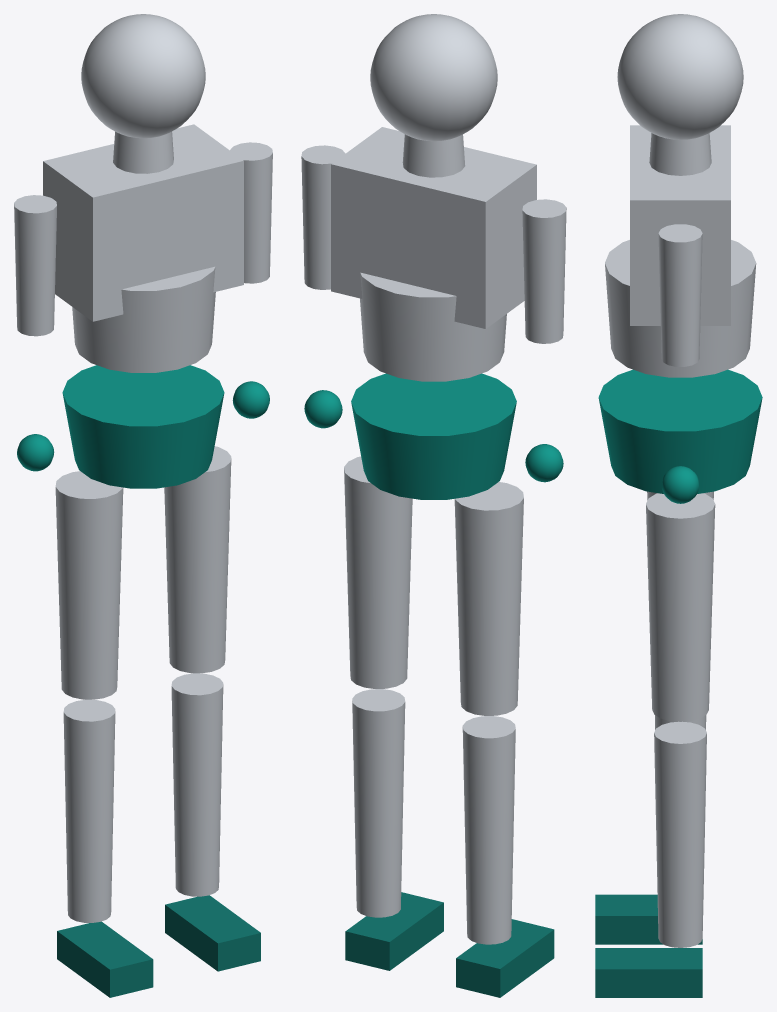
File: patient_avatar.glb
3 renders of one model, left to right at view 1: azimuth 30°, elevation 25°; view 2: azimuth 150°, elevation 25°; view 3: azimuth 270°, elevation 25°, orthographic. The views are drawn at different scales.
Visible parts, largest first — view 1: LeftLeg, RightLeg, Thorax, Pelvis, Head, Abdomen, LeftArm, RightArm, Neck; view 2: LeftLeg, RightLeg, Thorax, Pelvis, Head, Abdomen, LeftArm, RightArm, Neck; view 3: RightLeg, Pelvis, Thorax, Head, Abdomen, RightArm, LeftLeg, Neck.
Part boxes in pixels (x1,y1,x2,y2): LeftLeg: (55, 471, 153, 997); RightLeg: (164, 446, 260, 971); Thorax: (43, 124, 243, 321); Pelvis: (62, 365, 224, 488); Head: (81, 14, 205, 138); Abdomen: (72, 266, 215, 372); LeftArm: (14, 195, 56, 471); RightArm: (230, 142, 272, 418); Neck: (113, 131, 173, 173); LeftLeg: (454, 482, 554, 997); RightLeg: (344, 456, 443, 970); Thorax: (331, 127, 536, 328); Pelvis: (351, 373, 516, 499); Head: (370, 14, 497, 141); Abdomen: (360, 272, 506, 381); LeftArm: (522, 199, 566, 482); RightArm: (301, 145, 345, 428); Neck: (402, 134, 465, 177); RightLeg: (595, 493, 715, 997); Pelvis: (598, 369, 762, 493); Thorax: (630, 125, 730, 325); Head: (617, 14, 743, 139); Abdomen: (605, 240, 756, 377); RightArm: (658, 224, 702, 503); LeftLeg: (595, 491, 713, 944); Neck: (649, 133, 711, 175).
Bounding box in the file's own units: 0.4682 × 1.65 × 0.265.
